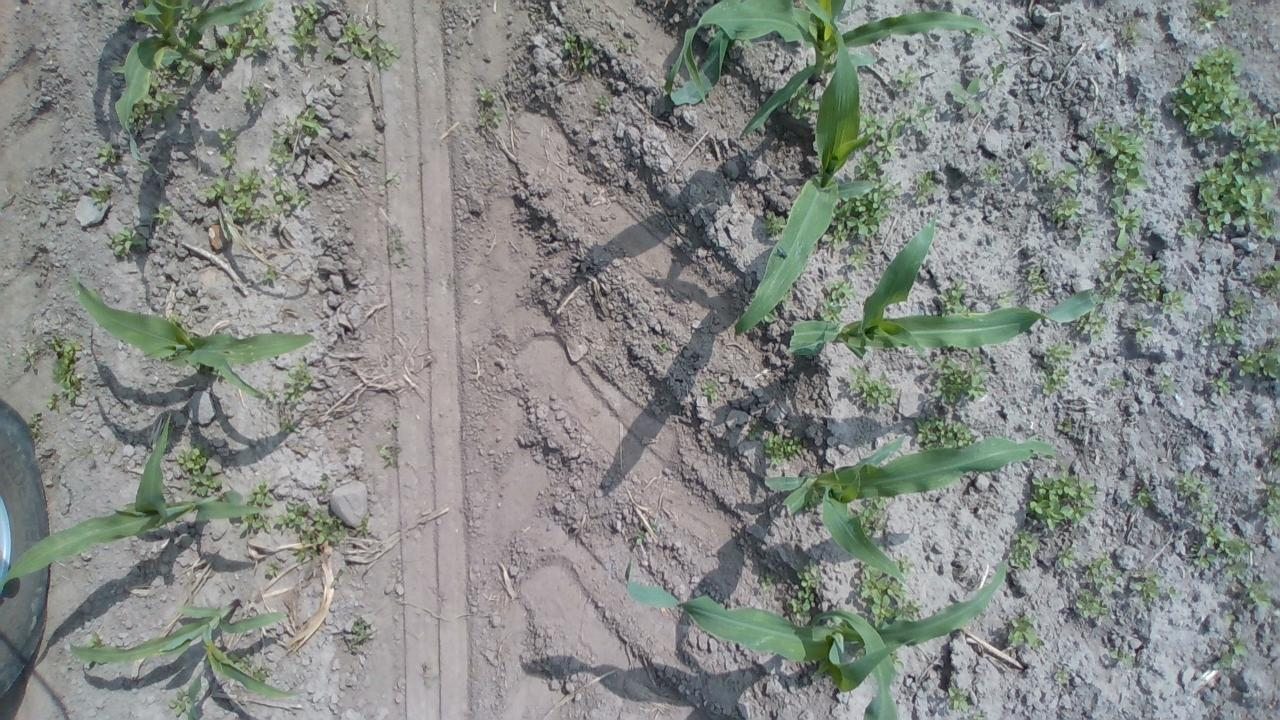Maize: (621, 556, 1011, 720), (0, 410, 284, 594), (784, 207, 1106, 360), (660, 1, 1010, 140), (758, 428, 1060, 585), (733, 26, 883, 330), (71, 264, 318, 400), (66, 597, 306, 720), (113, 1, 273, 140)
Weeds: (1173, 477, 1255, 578), (1192, 161, 1280, 247), (1167, 44, 1246, 139), (814, 185, 898, 264), (200, 170, 313, 224), (117, 63, 190, 136), (1103, 255, 1191, 314), (855, 106, 933, 169), (1078, 123, 1150, 183), (1022, 477, 1098, 532), (284, 503, 352, 560), (218, 0, 276, 63), (333, 18, 402, 68), (1231, 108, 1278, 172), (1103, 185, 1148, 250), (843, 360, 901, 410), (1214, 351, 1280, 394), (857, 572, 911, 622), (42, 339, 84, 395), (173, 448, 223, 495), (923, 368, 984, 406), (784, 566, 830, 616), (213, 646, 272, 684), (1038, 178, 1080, 230), (912, 417, 978, 450), (1056, 549, 1110, 587), (946, 76, 990, 122), (1213, 300, 1251, 350), (752, 430, 798, 468), (1238, 264, 1280, 304), (562, 33, 599, 78), (244, 482, 276, 530), (814, 279, 851, 320), (290, 4, 319, 55), (276, 367, 312, 408), (472, 82, 501, 132), (854, 492, 890, 532), (1231, 586, 1278, 616), (1038, 344, 1071, 385), (1262, 448, 1278, 530), (1006, 616, 1040, 651), (340, 618, 372, 651), (1071, 590, 1103, 622), (1200, 1, 1235, 30), (1010, 534, 1040, 566), (976, 158, 1004, 190), (1124, 576, 1162, 598), (886, 70, 918, 96), (268, 136, 294, 168), (166, 691, 194, 720), (909, 176, 936, 206), (944, 686, 972, 714), (936, 290, 964, 318), (1216, 644, 1248, 668), (698, 380, 721, 413), (106, 229, 132, 256), (784, 96, 818, 116), (150, 202, 175, 229), (1107, 650, 1140, 670), (216, 136, 238, 164), (1026, 154, 1054, 176), (297, 110, 324, 132), (1132, 490, 1156, 513), (1022, 268, 1050, 286), (92, 139, 110, 165), (1132, 326, 1154, 345), (1056, 668, 1078, 686), (244, 88, 262, 110), (1156, 376, 1174, 390)
